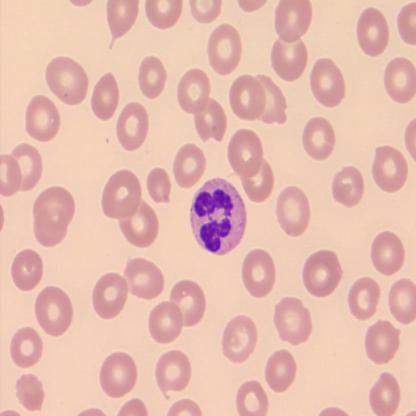Segmented neutrophil: (187, 175, 249, 258)
